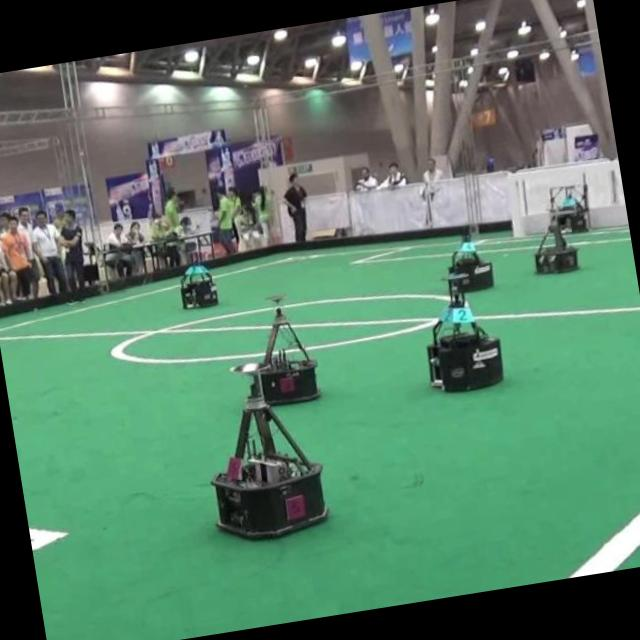goal: (505, 173, 524, 236)
robot: (212, 364, 327, 539), (427, 277, 504, 393), (260, 296, 320, 406), (449, 238, 494, 292), (535, 217, 578, 272), (181, 265, 218, 310), (552, 184, 587, 231)
